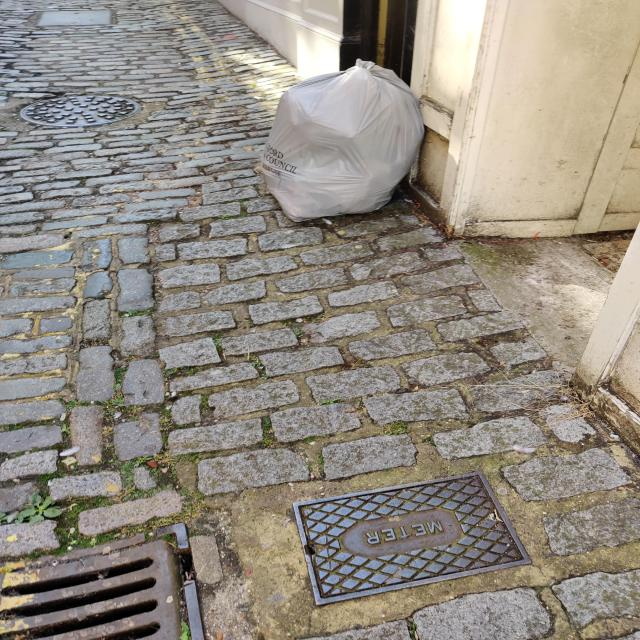litter: (242, 48, 439, 235)
